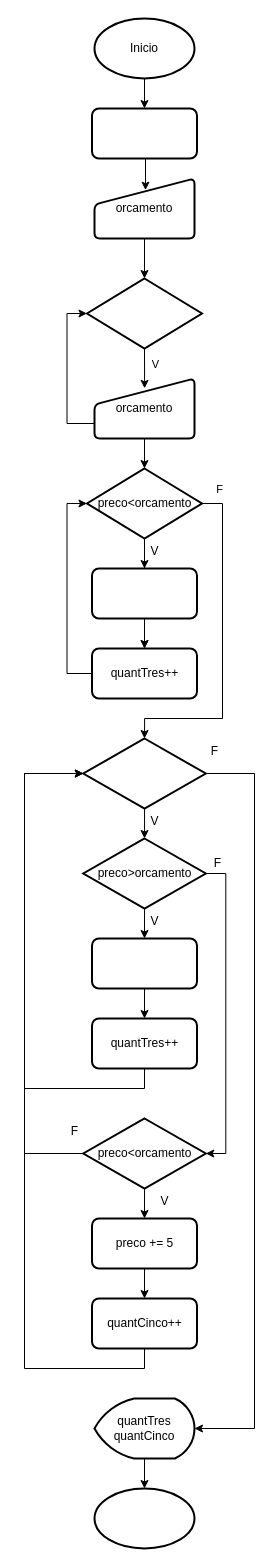
This 280x1566 diagram has some shape labels left out. The centre of each missing label's shape, as x and y in pixels:
"Fim" belongs at (144,1518).
"orcamento<8" belongs at (144,313).
"preco != orcamento" belongs at (144,773).
"preco += 3" belongs at (144,593).
"preco -= 3" belongs at (144,963).
"preco = 0" belongs at (144,133).
